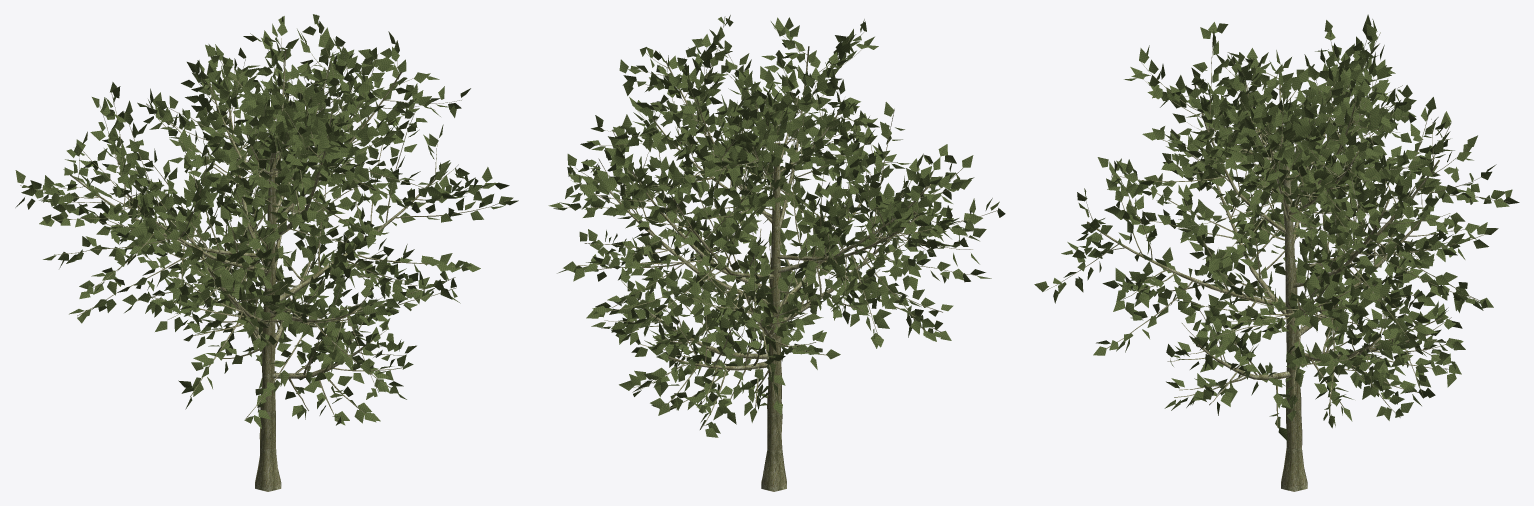
The model's file is tree03.glb.
3 renders of one model, left to right at view 1: azimuth 30°, elevation 25°; view 2: azimuth 150°, elevation 25°; view 3: azimuth 270°, elevation 25°, orthographic. The views are drawn at different scales.
Visible parts, largest first — view 1: tree03; view 2: tree03; view 3: tree03.
Part boxes in pixels (<box>): tree03: <box>15,14,518,491</box>; tree03: <box>548,15,1005,491</box>; tree03: <box>1034,14,1519,491</box>.
Size of the model in its own units: 6.37 by 6.05 by 5.91.
2 materials, 2 textured.
